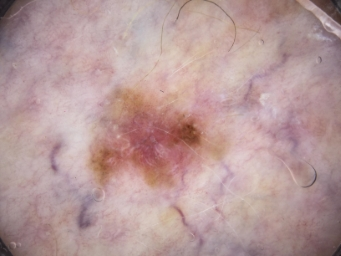nevus: (90, 88, 218, 189)
